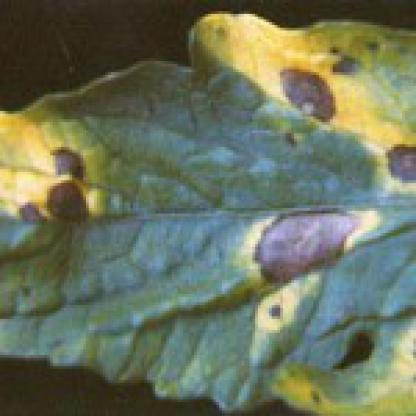Tomato Early blight leaf: (3, 17, 413, 396)
